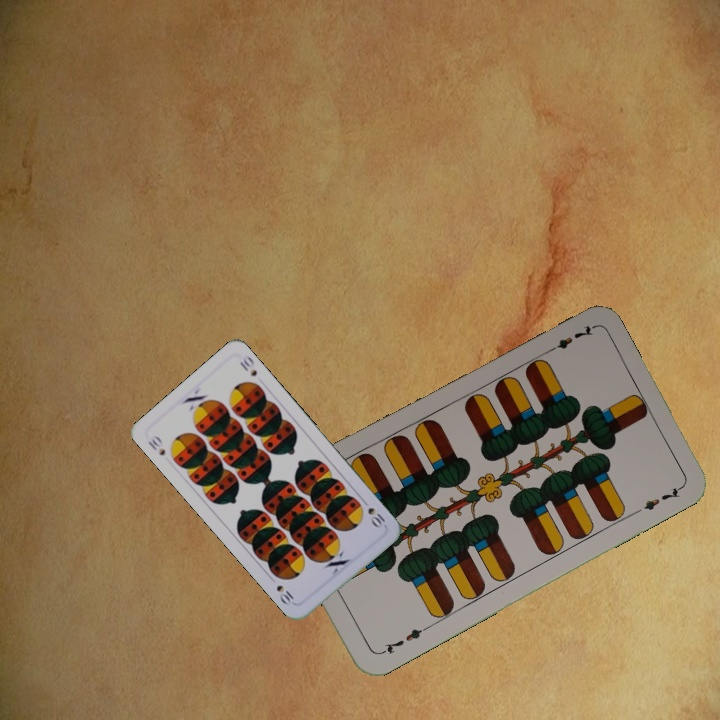E7: (541, 321, 596, 357), (376, 622, 430, 658)
S10: (358, 496, 388, 530), (144, 431, 168, 458)
